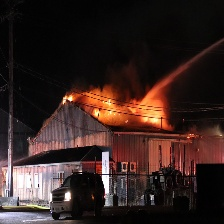fire: (92, 100, 125, 117), (144, 112, 161, 122), (62, 95, 73, 104)
smoke: (98, 61, 152, 96)
